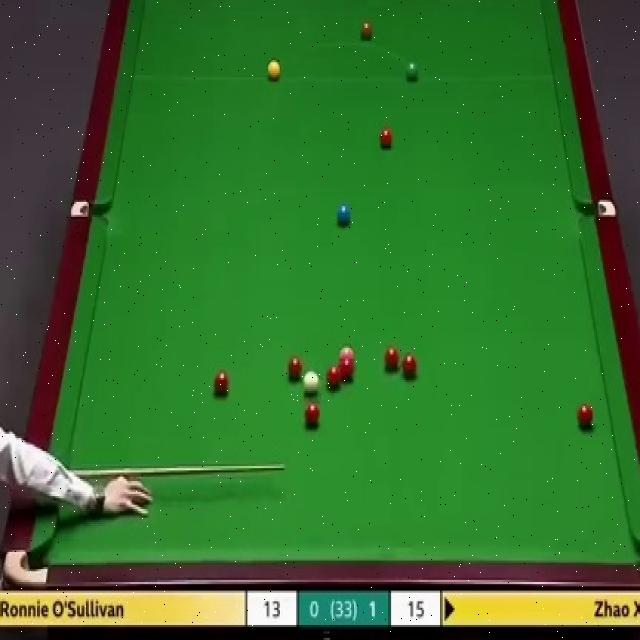blue-ball: (335, 202, 351, 226)
brown-ball: (360, 19, 374, 40)
green-ball: (404, 59, 419, 82)
pink-ball: (338, 346, 354, 361)
red-ball: (400, 352, 419, 378), (577, 401, 594, 429), (213, 370, 229, 396), (304, 403, 320, 427), (338, 358, 355, 380), (287, 358, 304, 380), (378, 126, 393, 150), (384, 348, 400, 370), (326, 368, 341, 389)
white-ball: (302, 370, 320, 396)
yellow-ball: (266, 58, 281, 80)
